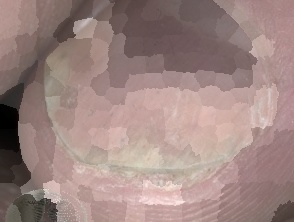Nail_psoriasis: (23, 28, 275, 213)
